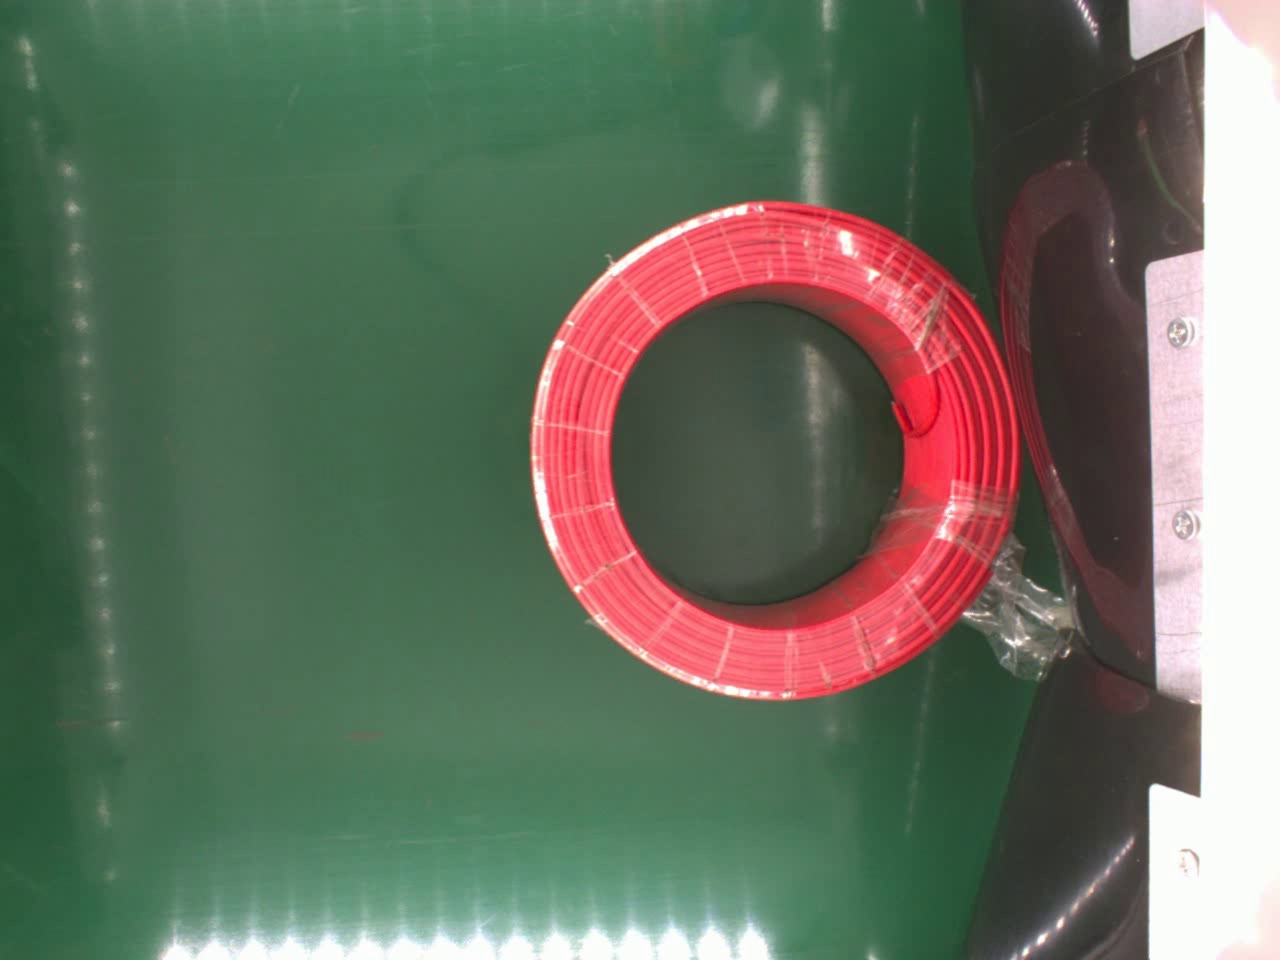red: (526, 200, 1024, 701)
